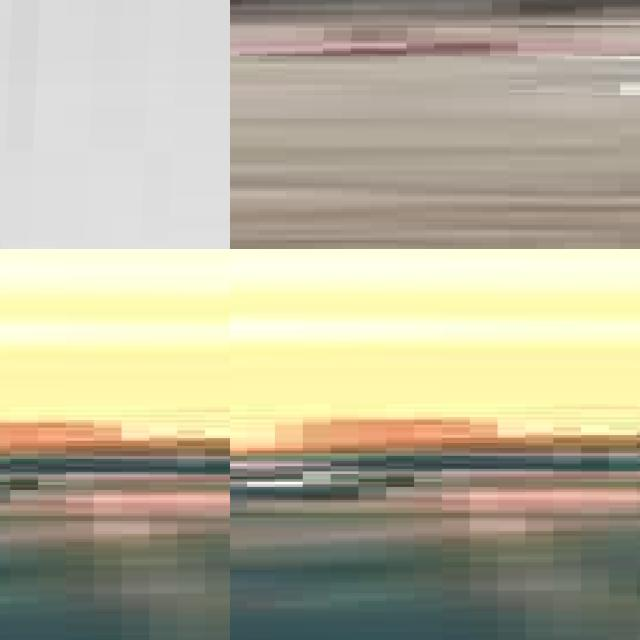street light: (0, 0, 230, 249), (230, 0, 640, 56), (442, 419, 640, 457), (66, 422, 230, 460), (497, 414, 640, 457), (121, 417, 230, 460), (553, 406, 640, 458), (10, 433, 164, 459), (386, 430, 540, 456), (330, 435, 470, 456), (177, 409, 230, 461), (331, 438, 442, 456), (0, 438, 93, 458), (0, 441, 66, 459)
